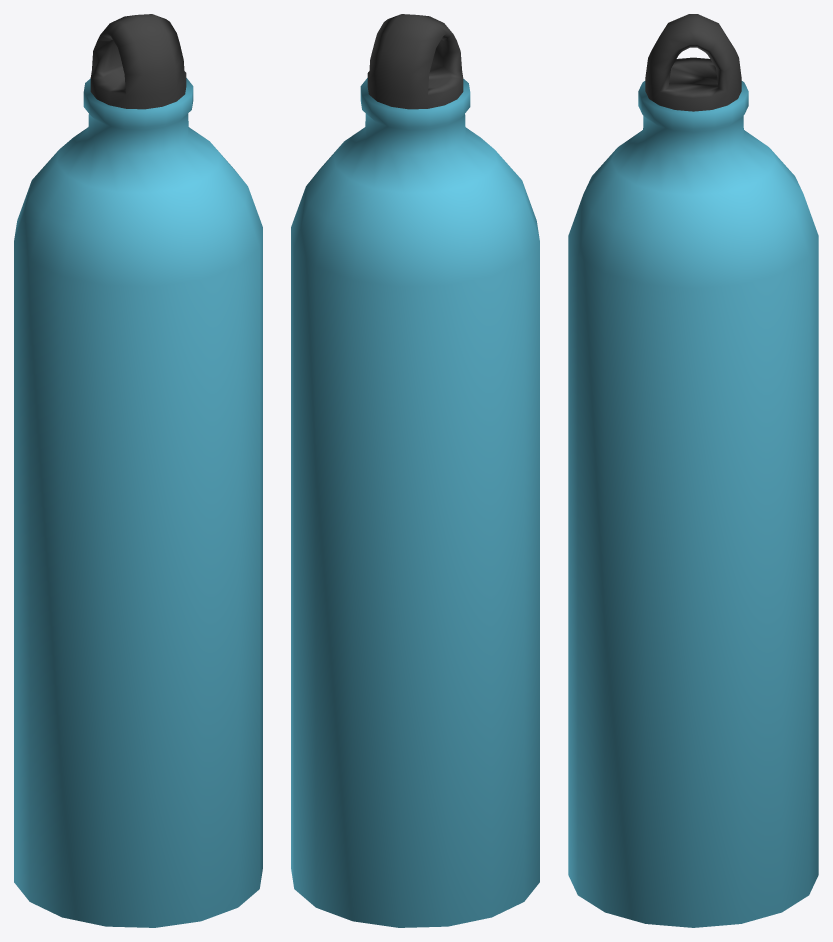
Rendered from Gourde.fbx.
3 views of the same model, side by side, from view 1: azimuth 30°, elevation 25°; view 2: azimuth 150°, elevation 25°; view 3: azimuth 270°, elevation 25° (orthographic).
Visible parts, largest first — view 1: Gourde; view 2: Gourde; view 3: Gourde.
Part boxes in pixels (x1=…): Gourde: x1=14, y1=14, x2=262, y2=927; Gourde: x1=291, y1=14, x2=539, y2=927; Gourde: x1=568, y1=14, x2=818, y2=927.
Size of the model in its own units: 7 by 26.41 by 7.
